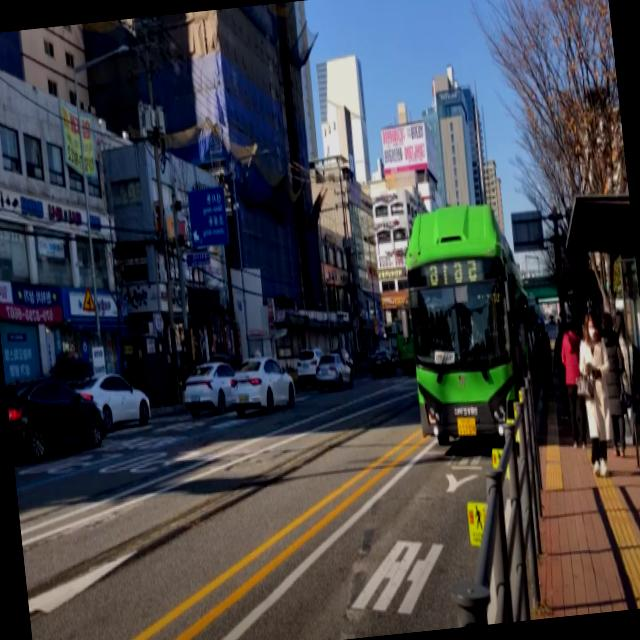bus-number: (426, 257, 478, 288)
